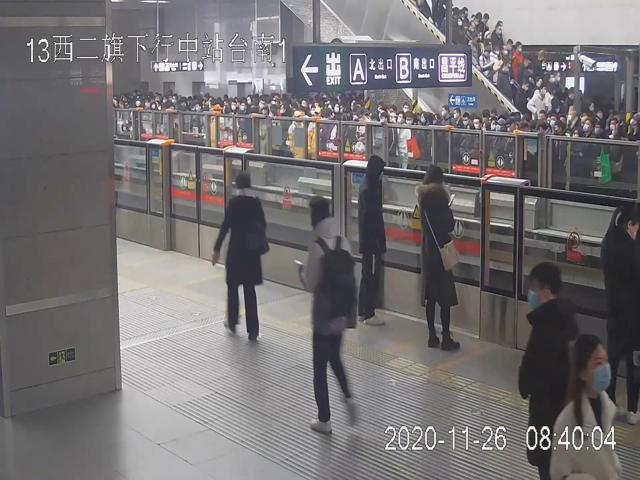person: (300, 194, 359, 435), (517, 261, 580, 480), (211, 173, 268, 341), (416, 164, 460, 350), (358, 154, 388, 329)
